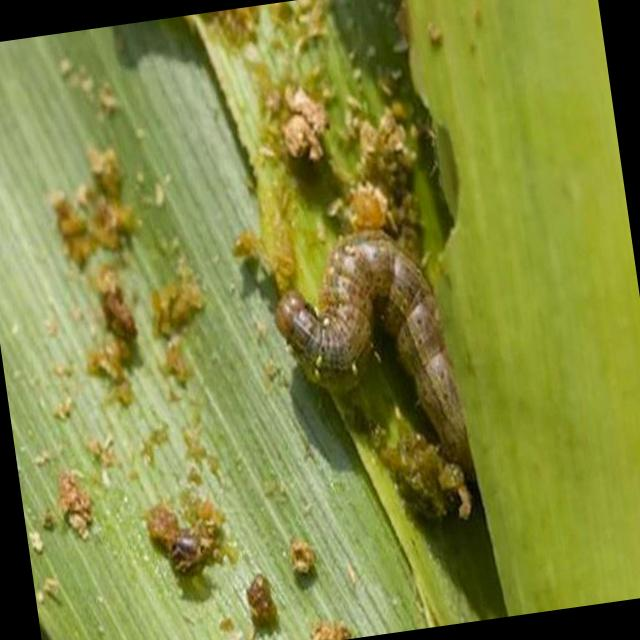pest: (254, 209, 496, 487)
